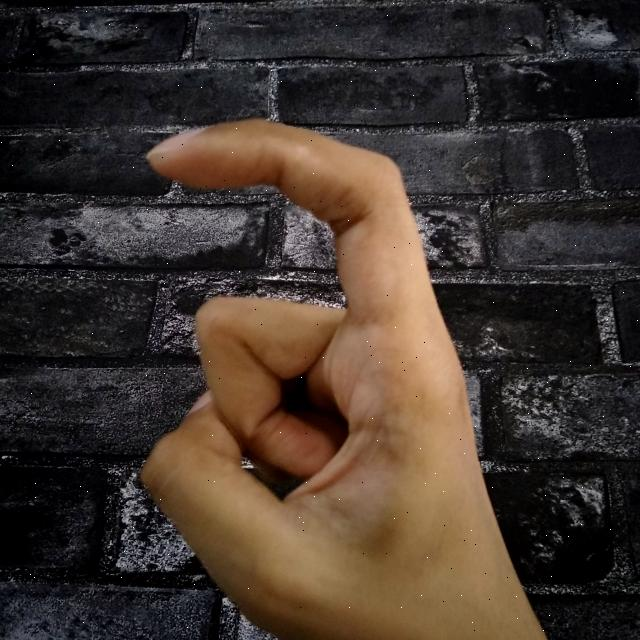X: (124, 111, 550, 640)
